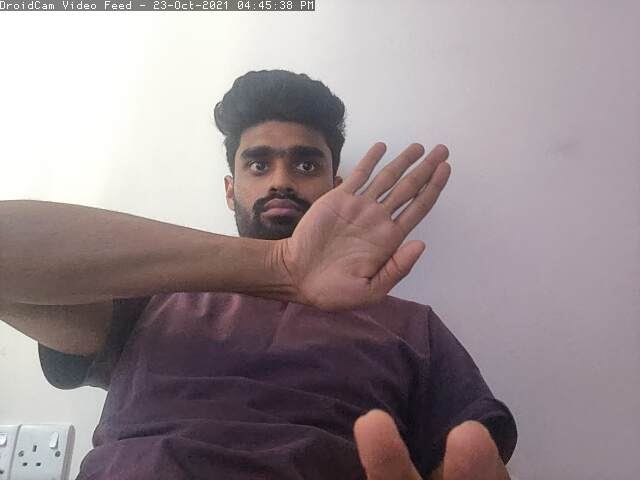Stop: (305, 143, 465, 303)
